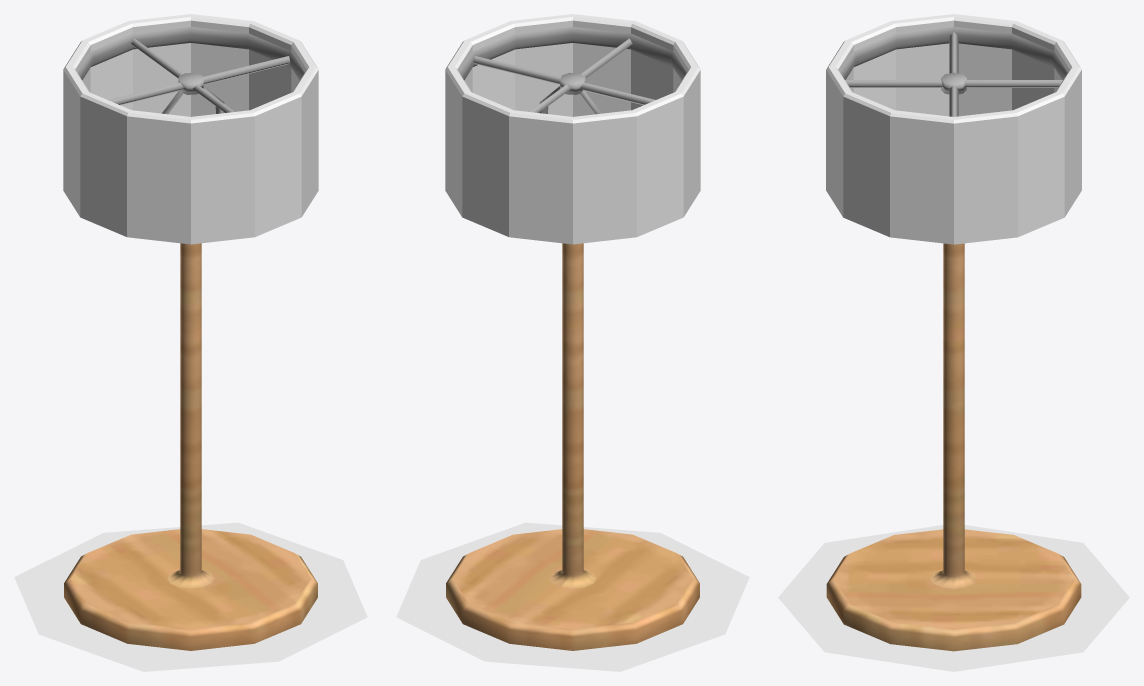
File: rmk_smp_lamp.fbx
The picture shows the model from 3 angles, left to right: view 1: azimuth 30°, elevation 25°; view 2: azimuth 150°, elevation 25°; view 3: azimuth 270°, elevation 25°; orthographic projection.
Visible parts, largest first — view 1: lamp_add, rmk_smp_lamp, sdw_circle; view 2: lamp_add, rmk_smp_lamp, sdw_circle; view 3: lamp_add, rmk_smp_lamp, sdw_circle.
Part boxes in pixels (box(x1,y1,x2,y2)): lamp_add: box(63, 14, 318, 244); rmk_smp_lamp: box(64, 27, 317, 650); sdw_circle: box(14, 522, 367, 671); lamp_add: box(445, 14, 700, 244); rmk_smp_lamp: box(446, 27, 699, 650); sdw_circle: box(396, 522, 749, 671); lamp_add: box(826, 14, 1081, 244); rmk_smp_lamp: box(826, 27, 1081, 651); sdw_circle: box(778, 525, 1129, 671).
Size of the model in its own units: 0.0855 by 0.1422 by 0.0855.
3 materials, 2 textured.
